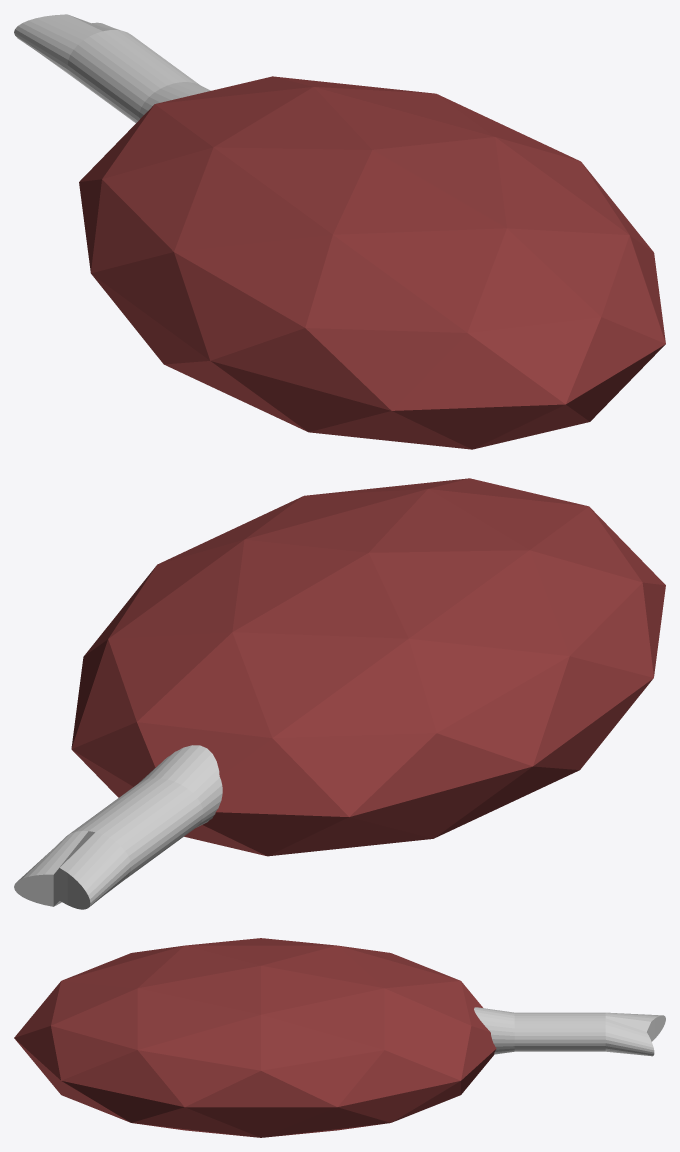
Rendered from cooked_meat.fbx.
The picture shows the model from 3 angles, top to bottom: view 1: azimuth 30°, elevation 25°; view 2: azimuth 150°, elevation 25°; view 3: azimuth 270°, elevation 25°; orthographic projection. The views are drawn at different scales.
Visible parts, largest first — view 1: meat, bone; view 2: meat, bone; view 3: meat, bone.
Boxes of the visible parts, x1,y1,x2,y2 form: meat: (79, 76, 665, 449); bone: (14, 14, 210, 122); meat: (71, 478, 665, 856); bone: (14, 745, 222, 909); meat: (14, 938, 496, 1137); bone: (474, 1007, 665, 1056).
Bounding box in the file's own units: 25.19 × 12.26 × 50.13.
